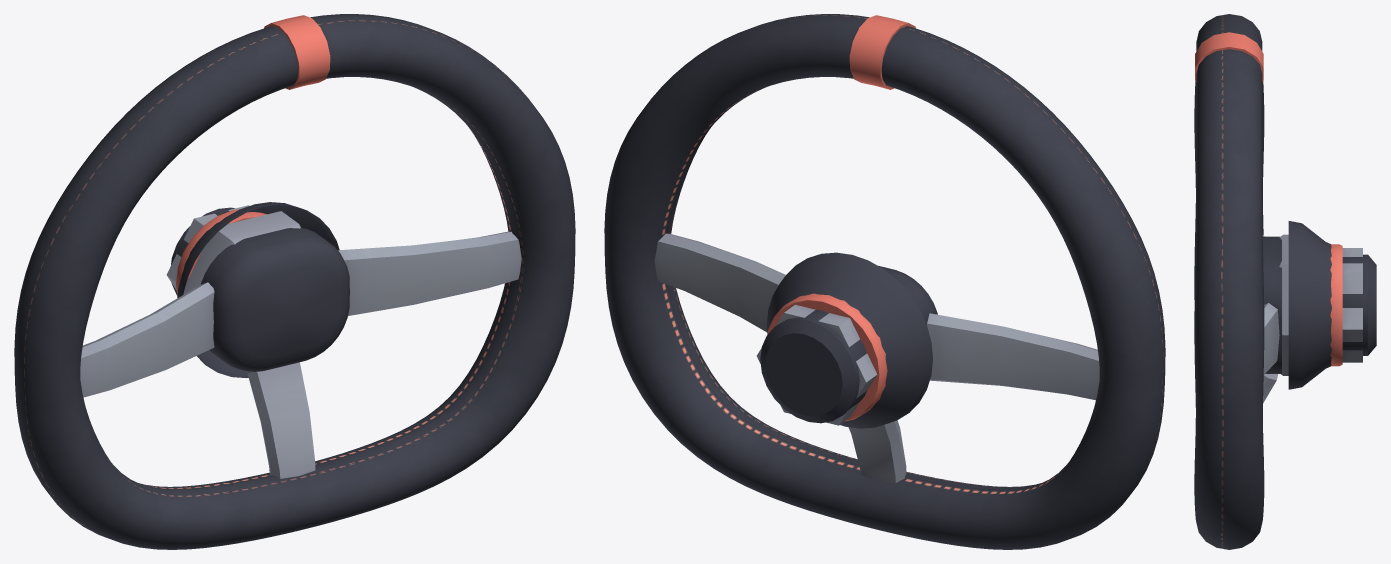
The model's file is sports-steering-wheel.glb.
3 views of the same model, side by side, from view 1: azimuth 30°, elevation 25°; view 2: azimuth 150°, elevation 25°; view 3: azimuth 270°, elevation 25° (orthographic). The views are drawn at different scales.
Parts seen in each view (by area): view 1: sports-steering-wheel_steering_rim; view 2: sports-steering-wheel_steering_rim; view 3: sports-steering-wheel_steering_rim.
Boxes of the visible parts, left/top/right/bottom form: sports-steering-wheel_steering_rim: left=14, top=14, right=575, bottom=549; sports-steering-wheel_steering_rim: left=604, top=14, right=1165, bottom=549; sports-steering-wheel_steering_rim: left=1194, top=14, right=1376, bottom=549.
Size of the model in its own units: 0.3416 by 0.2991 by 0.1077.
Materials: 1 (1 with a texture image).
